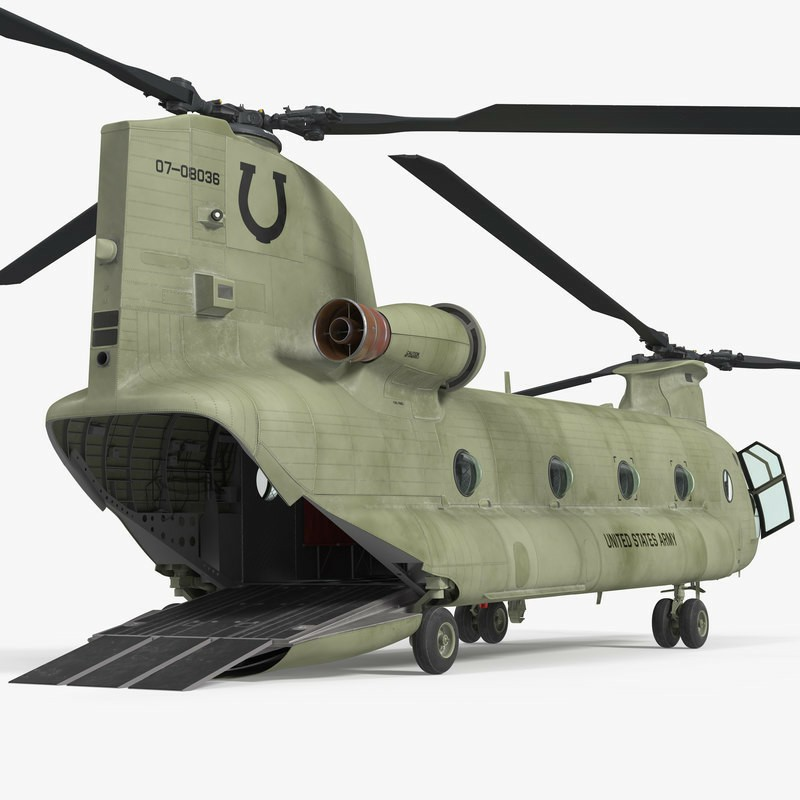chinook: (2, 10, 792, 675)
